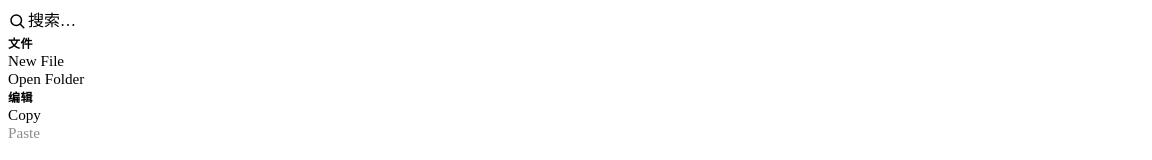
Scenario: Command › 无结果时渲染 Empty,可选项存在时不渲染
Expected: the text "无匹配项" is not shown
Type "zzz" into the dropdown.
click(585, 21); type("zzz")  # box [26,8,1144,34]
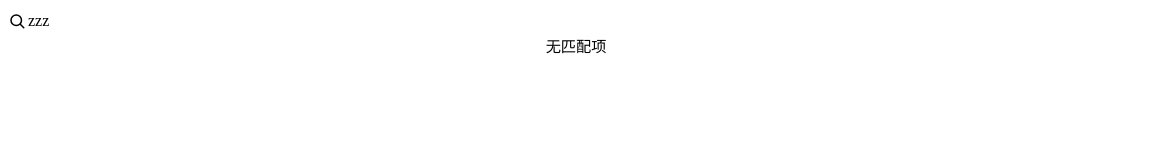
Expected: the text "无匹配项" is shown, [546,38,606,55]
Expected: no options are shown
